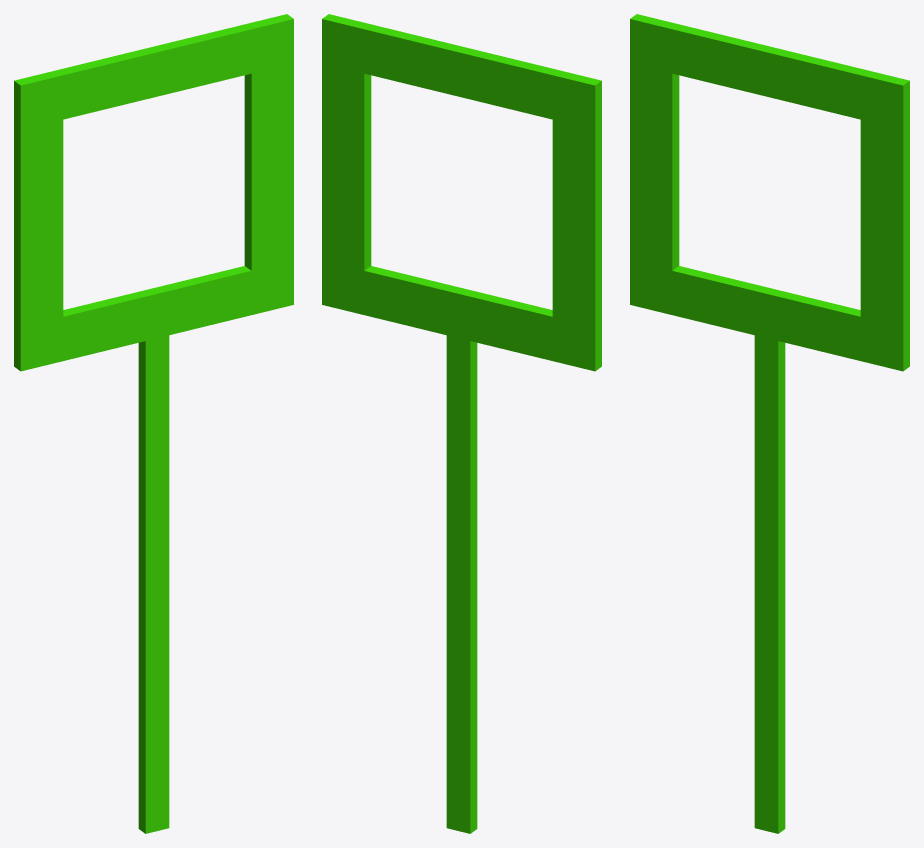
The model's file is gate_passed.dae.
3 renders of one model, left to right at view 1: azimuth 30°, elevation 25°; view 2: azimuth 150°, elevation 25°; view 3: azimuth 330°, elevation 25°, orthographic.
Parts seen in each view (by area): view 1: Cube, blue_edge, grey_edge, green_edge, red_edge; view 2: Cube, grey_edge, blue_edge, green_edge, red_edge; view 3: Cube, blue_edge, grey_edge, red_edge, green_edge.
Part boxes in pixels (left/top/right/bottom): Cube: left=138, top=335, right=169, bottom=833; blue_edge: left=14, top=14, right=293, bottom=129; grey_edge: left=244, top=14, right=293, bottom=310; green_edge: left=14, top=266, right=283, bottom=371; red_edge: left=14, top=71, right=63, bottom=370; Cube: left=446, top=335, right=477, bottom=833; grey_edge: left=322, top=14, right=371, bottom=314; blue_edge: left=322, top=14, right=601, bottom=129; green_edge: left=322, top=266, right=601, bottom=371; red_edge: left=552, top=71, right=601, bottom=370; Cube: left=754, top=335, right=785, bottom=833; blue_edge: left=630, top=14, right=909, bottom=129; grey_edge: left=860, top=70, right=909, bottom=370; red_edge: left=630, top=14, right=679, bottom=314; green_edge: left=630, top=266, right=909, bottom=371.
Size of the model in its own units: 0.58 by 0.025 by 1.58.
